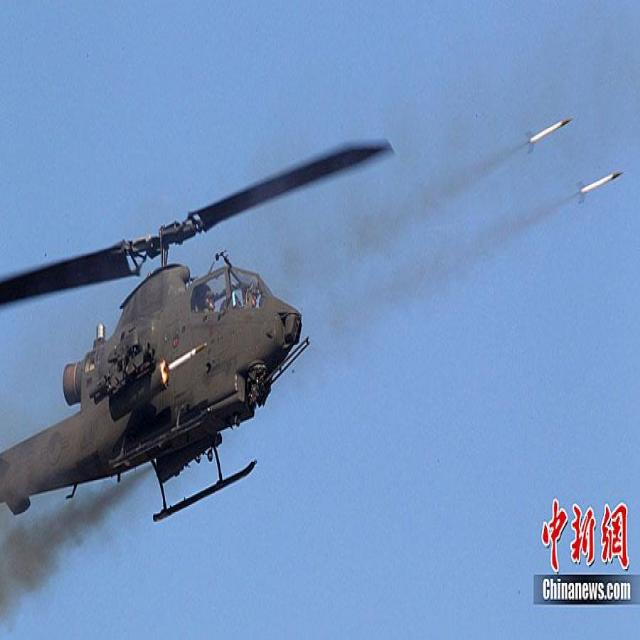MIL_HELO: (0, 121, 405, 538)
